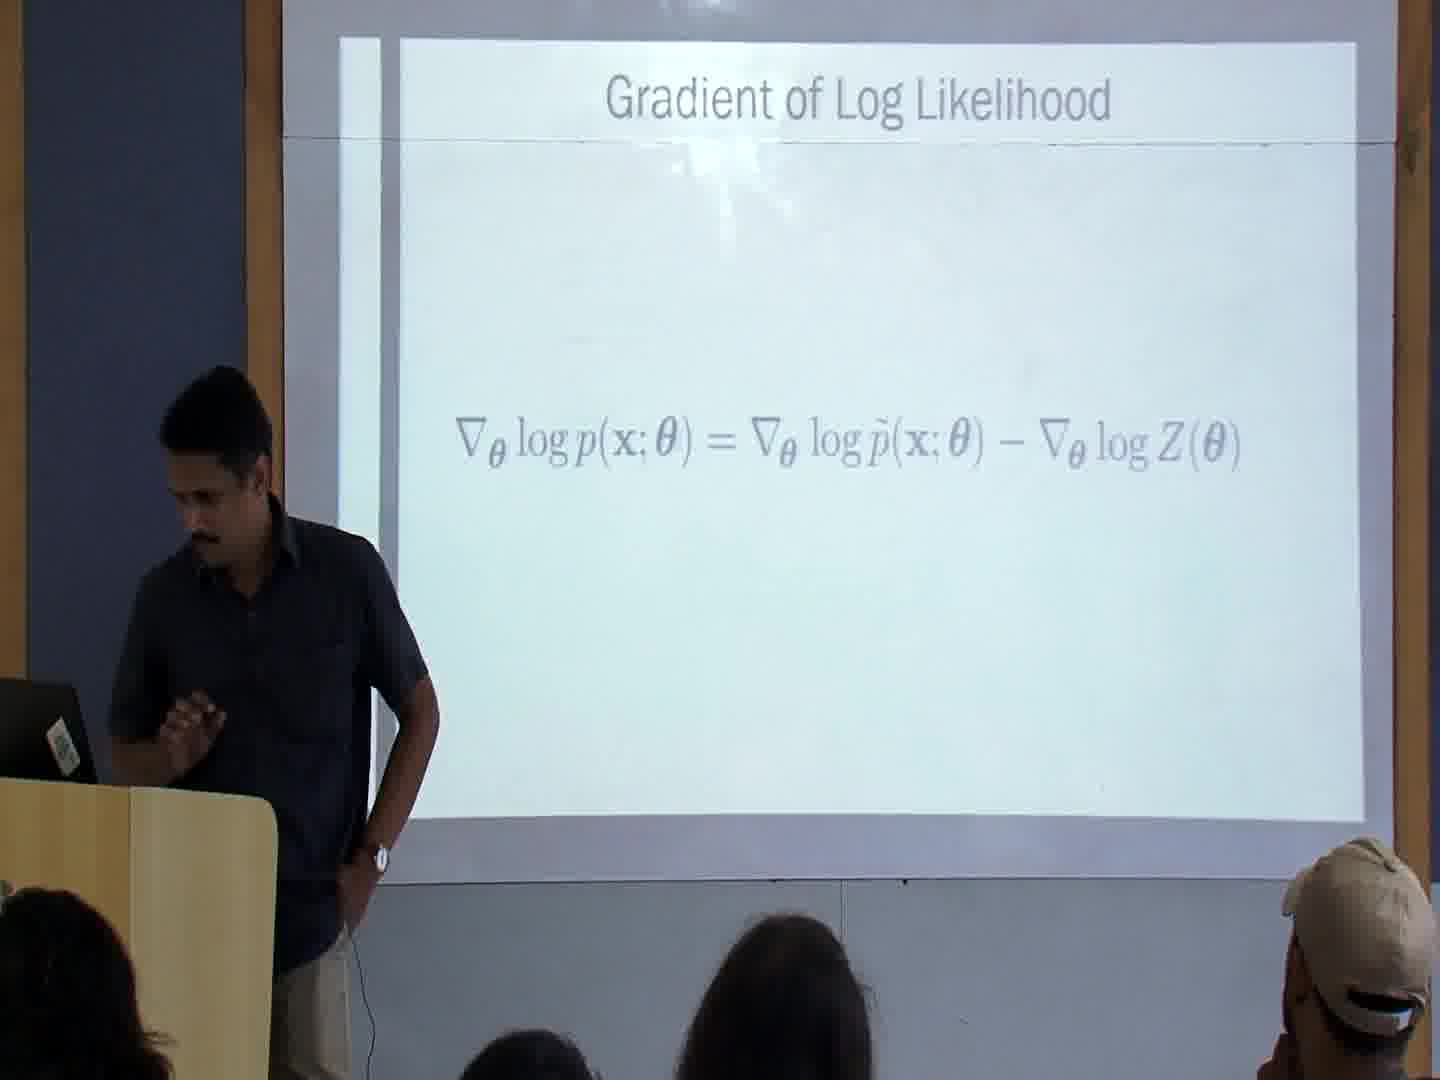eq: (450, 408, 1243, 476)
